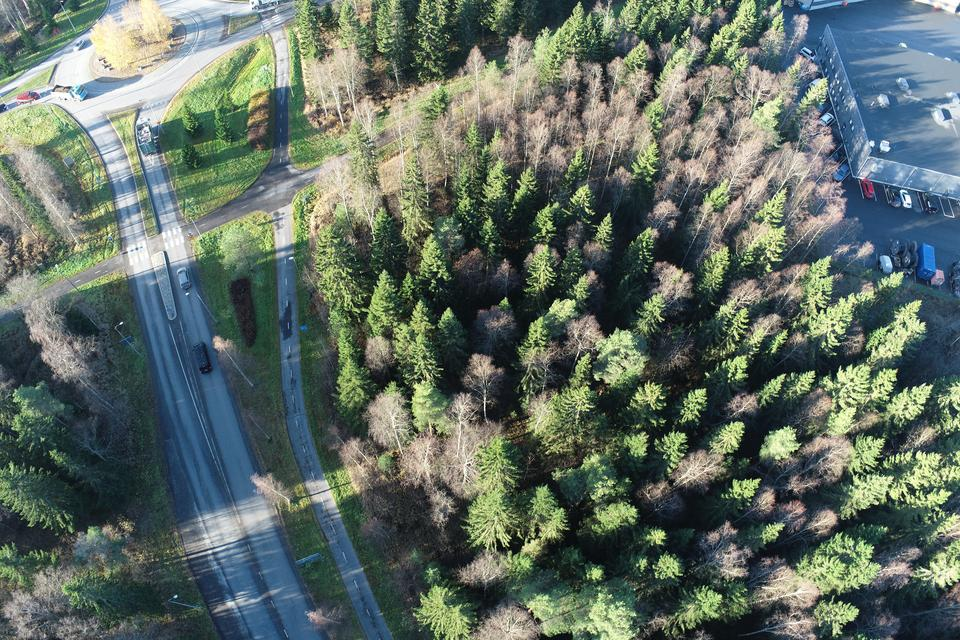intersection: (101, 195, 217, 308)
roundabout: (20, 0, 281, 139)
